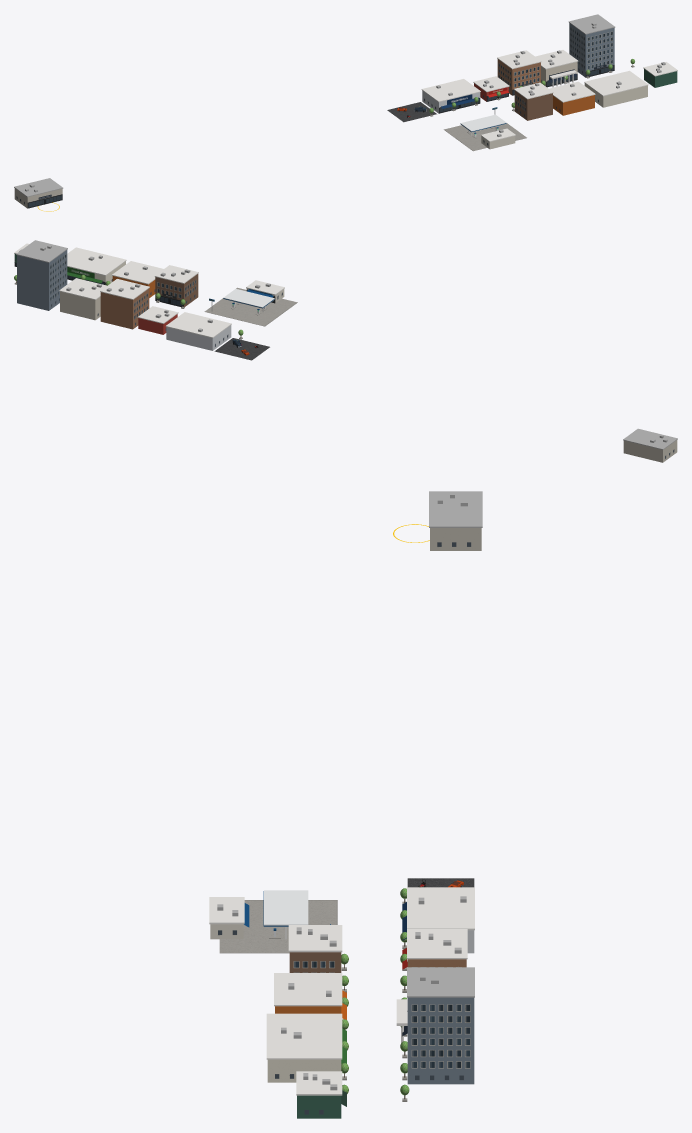
Rendered from downtown.glb.
3 views of the same model, one above another, from view 1: azimuth 30°, elevation 25°; view 2: azimuth 150°, elevation 25°; view 3: azimuth 270°, elevation 25° (orthographic). The views are drawn at different scales.
Size of the model in its own units: 386 by 27.57 by 74.
86 materials, 38 textured.
